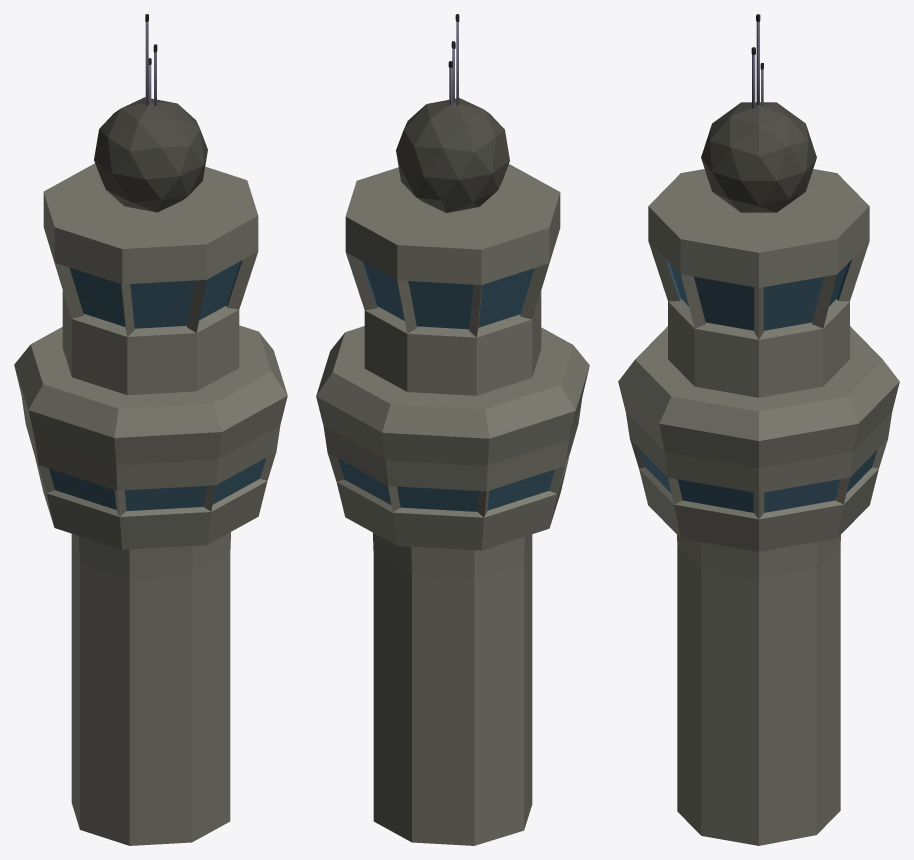
The model's file is ControlTower_01.fbx.
The picture shows the model from 3 angles, left to right: view 1: azimuth 30°, elevation 25°; view 2: azimuth 150°, elevation 25°; view 3: azimuth 270°, elevation 25°; orthographic projection.
Parts seen in each view (by area): view 1: ControlTower_01; view 2: ControlTower_01; view 3: ControlTower_01.
Boxes of the visible parts, bbox=[...] form: ControlTower_01: bbox=[14, 14, 287, 845]; ControlTower_01: bbox=[316, 14, 589, 845]; ControlTower_01: bbox=[618, 14, 899, 845].
Bounding box in the file's own units: 13.76 × 42.8 × 13.76.
